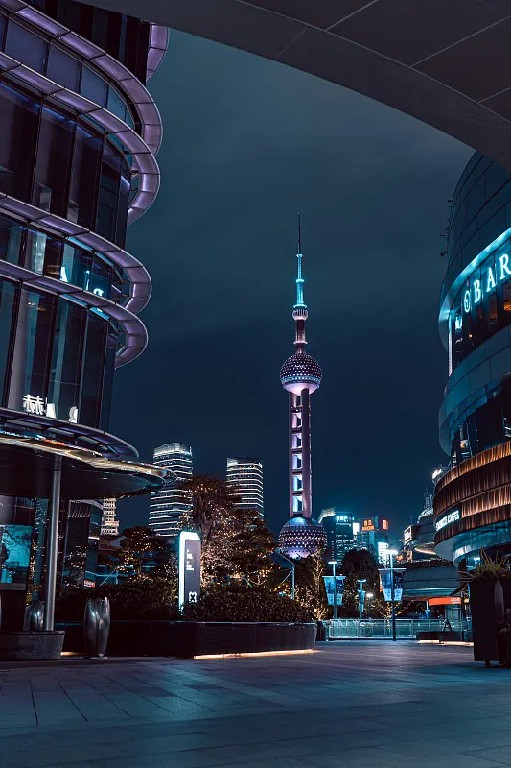Oriental: (279, 214, 327, 560)
